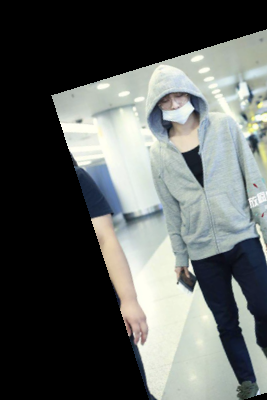mask_weared_incorrect: (139, 67, 214, 143)
